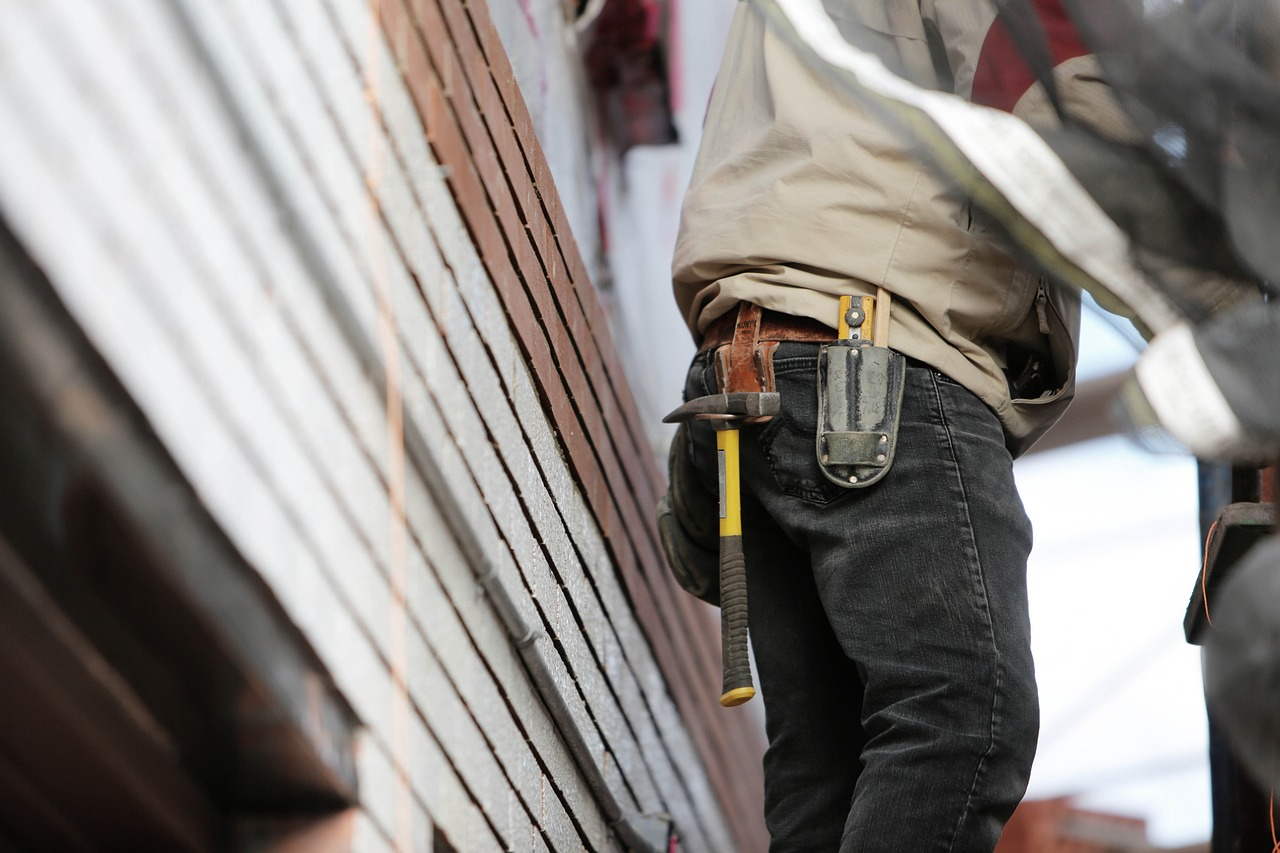knife: (832, 286, 876, 348), (874, 283, 897, 348)
